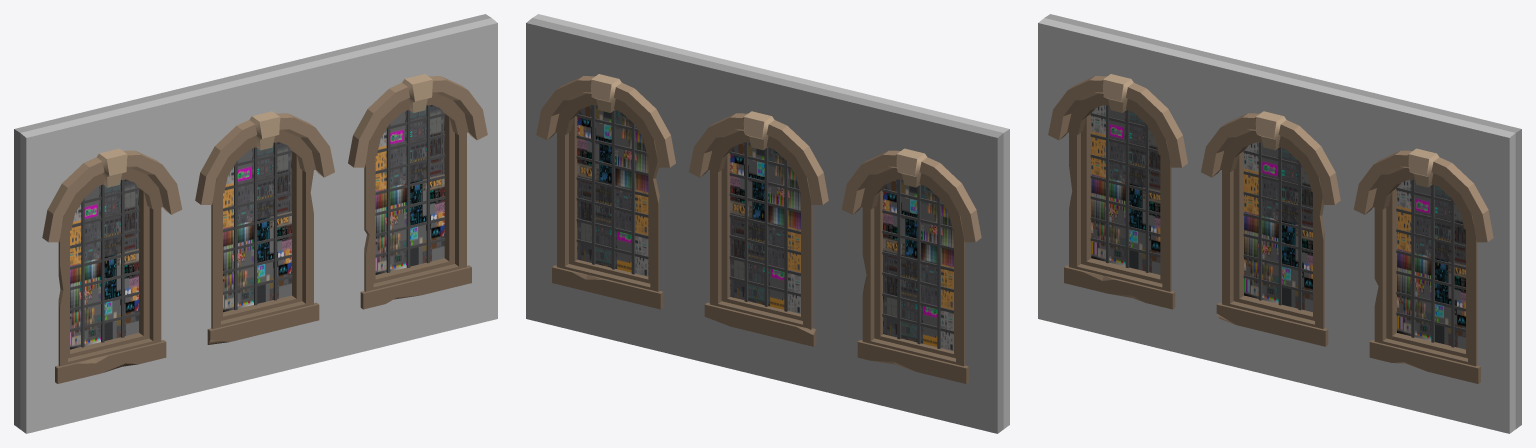
File: SM_Bld_Wall_Window_Old_01.fbx
The picture shows the model from 3 angles, left to right: view 1: azimuth 30°, elevation 25°; view 2: azimuth 150°, elevation 25°; view 3: azimuth 330°, elevation 25°; orthographic projection.
Visible parts, largest first — view 1: SM_Bld_Wall_Window_Old_01, SM_Bld_Wall_Window_Old_01_Glass; view 2: SM_Bld_Wall_Window_Old_01, SM_Bld_Wall_Window_Old_01_Glass; view 3: SM_Bld_Wall_Window_Old_01, SM_Bld_Wall_Window_Old_01_Glass.
Boxes of the visible parts, left/top/right/bottom form: SM_Bld_Wall_Window_Old_01: left=14, top=14, right=497, bottom=433; SM_Bld_Wall_Window_Old_01_Glass: left=70, top=105, right=444, bottom=349; SM_Bld_Wall_Window_Old_01: left=526, top=14, right=1009, bottom=433; SM_Bld_Wall_Window_Old_01_Glass: left=577, top=105, right=953, bottom=351; SM_Bld_Wall_Window_Old_01: left=1038, top=14, right=1521, bottom=433; SM_Bld_Wall_Window_Old_01_Glass: left=1091, top=105, right=1465, bottom=349.
Size of the model in its own units: 500 by 301 by 54.17.
